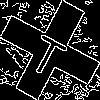T: (25, 25, 73, 80)
